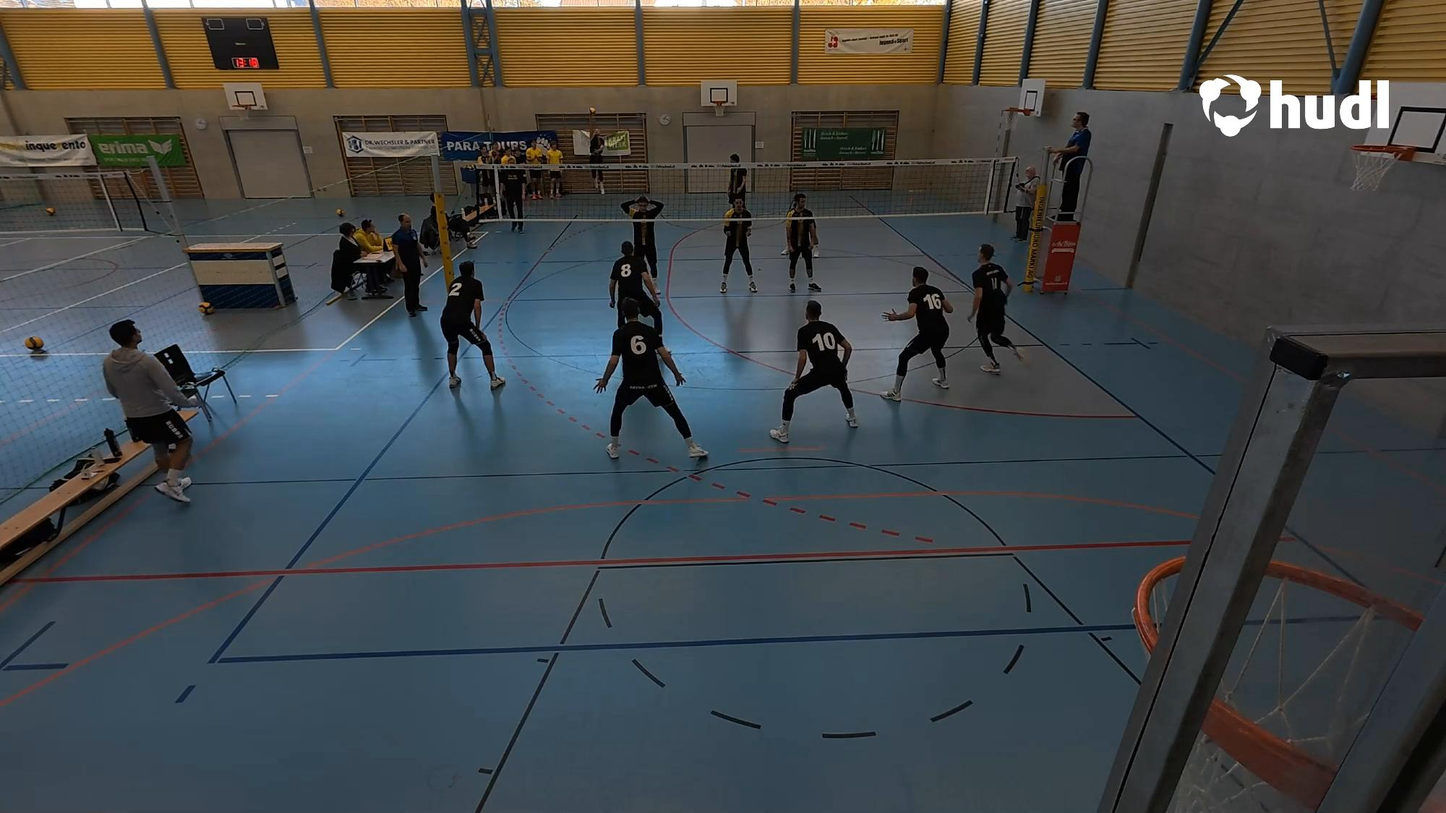Player: (601, 302, 707, 462), (768, 299, 860, 440), (881, 267, 951, 399), (595, 253, 658, 392), (442, 260, 505, 391), (968, 244, 1013, 373), (718, 195, 760, 294), (782, 197, 821, 294), (623, 187, 663, 280), (726, 155, 748, 215)
Serve: (578, 107, 609, 192)
ball: (588, 105, 596, 118)
